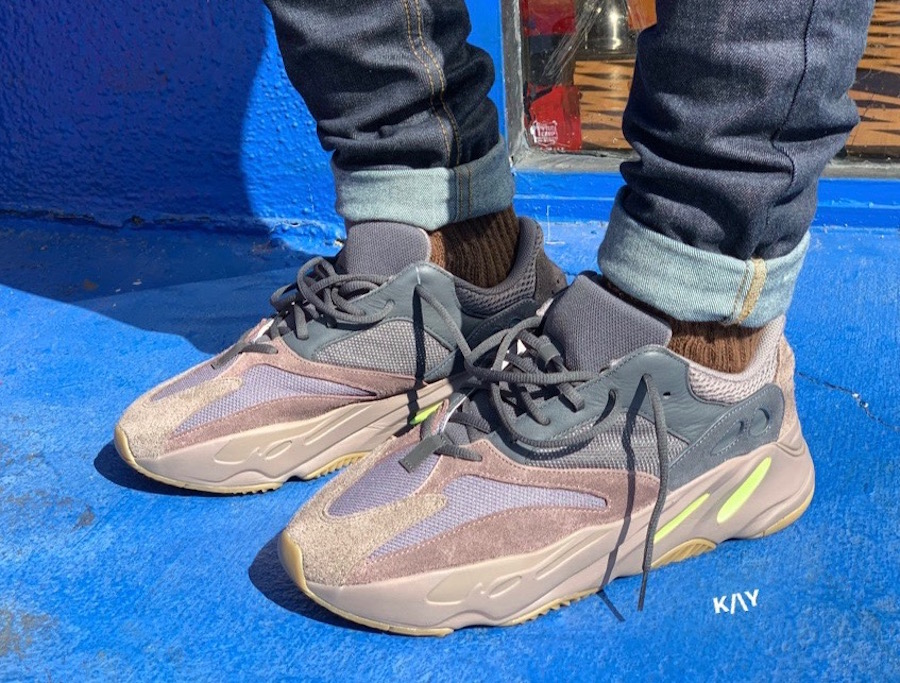adidas Yeezy 700 Mauve: (260, 246, 824, 643), (100, 167, 578, 509)
